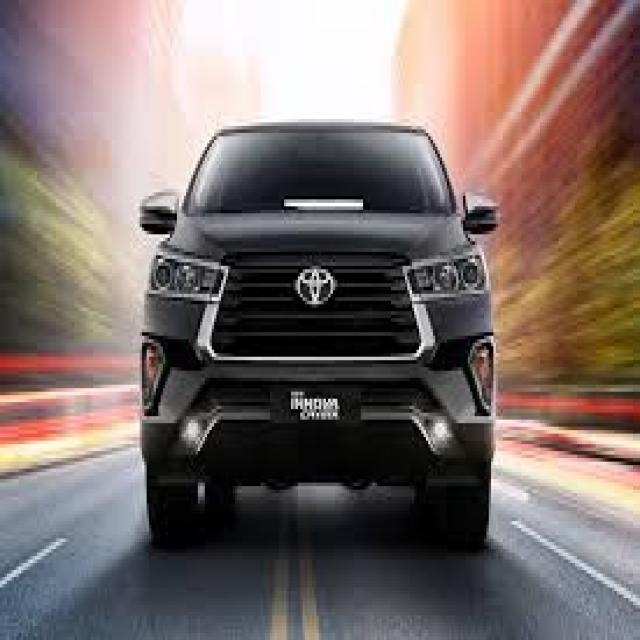light_vehicle: (140, 119, 497, 549)
